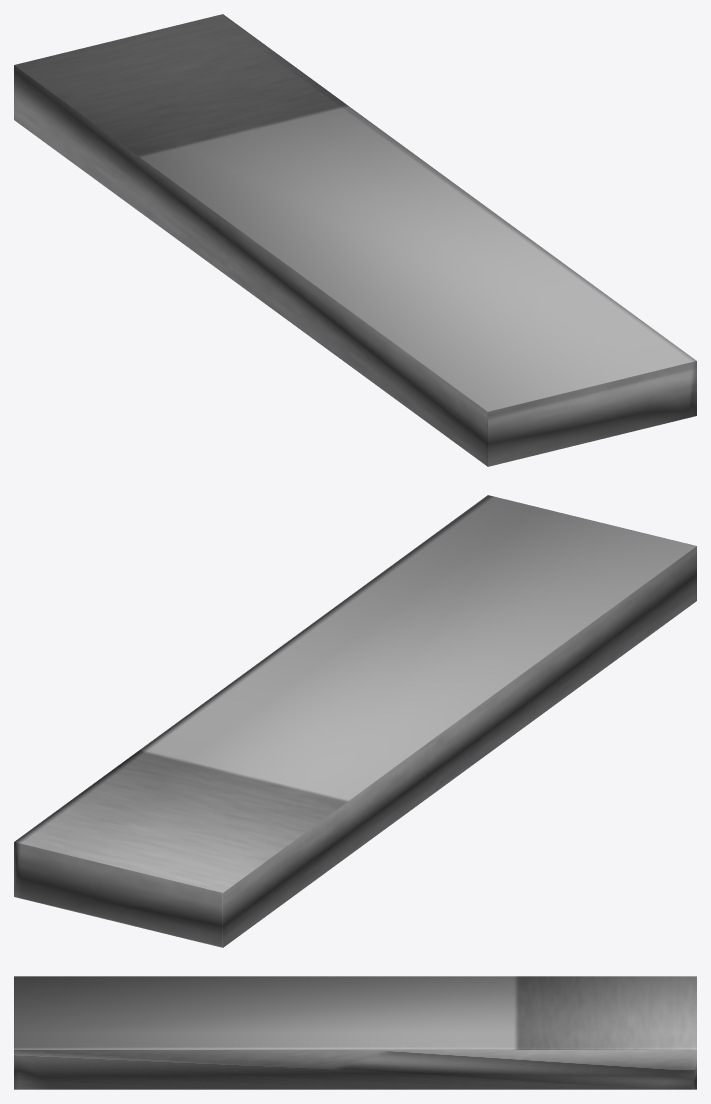
File: ceiling_light_4.obj
3 views of the same model, one above another, from view 1: azimuth 30°, elevation 25°; view 2: azimuth 150°, elevation 25°; view 3: azimuth 270°, elevation 25° (orthographic). The views are drawn at different scales.
Visible parts, largest first — view 1: ceiling_light_4; view 2: ceiling_light_4; view 3: ceiling_light_4.
Boxes of the visible parts, <box> form: ceiling_light_4: <box>14,14,696,466</box>; ceiling_light_4: <box>14,495,696,947</box>; ceiling_light_4: <box>14,976,696,1089</box>.
Size of the model in its own units: 2.04 by 0.5117 by 8.
1 material, 1 textured.
